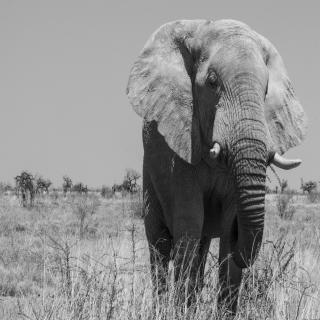Elephant: (124, 14, 308, 312)
